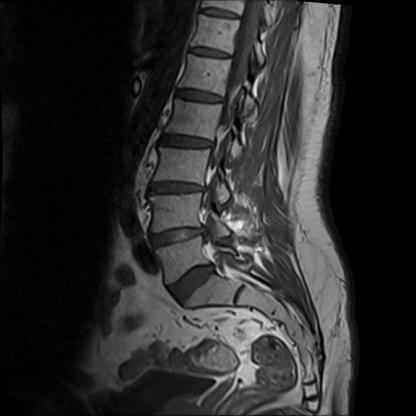Disc Bulgerotation: (147, 223, 206, 250), (156, 131, 216, 155), (144, 180, 206, 198)
Disc Protrusionrotation: (165, 267, 222, 299)
